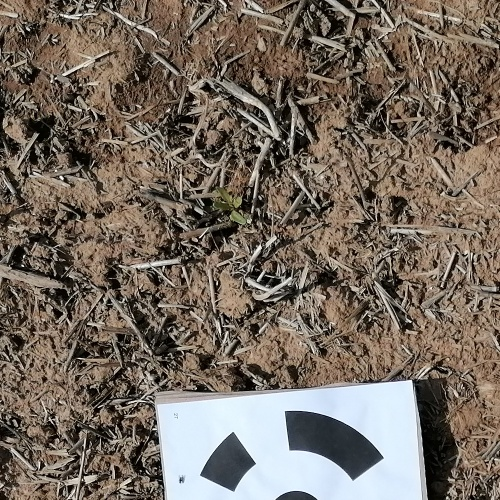beet: (216, 187, 247, 227)
